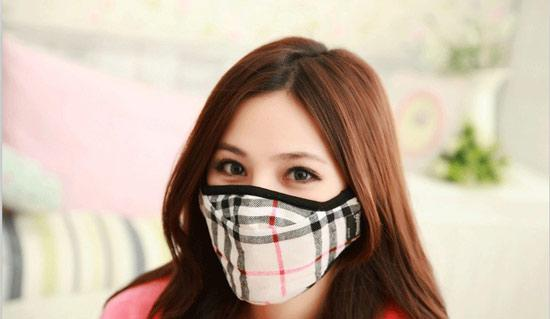OK: (205, 135, 369, 299)
